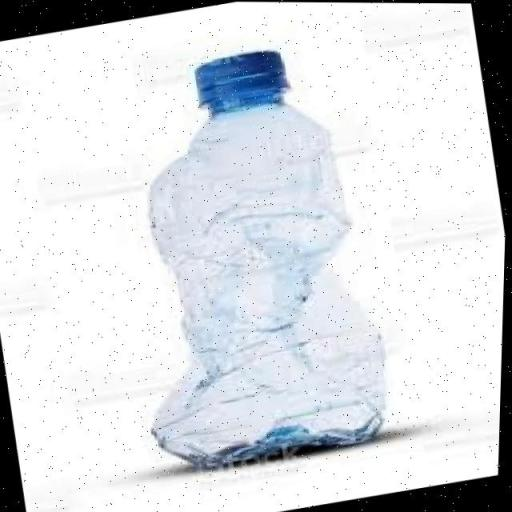plastic: (81, 14, 426, 482)
